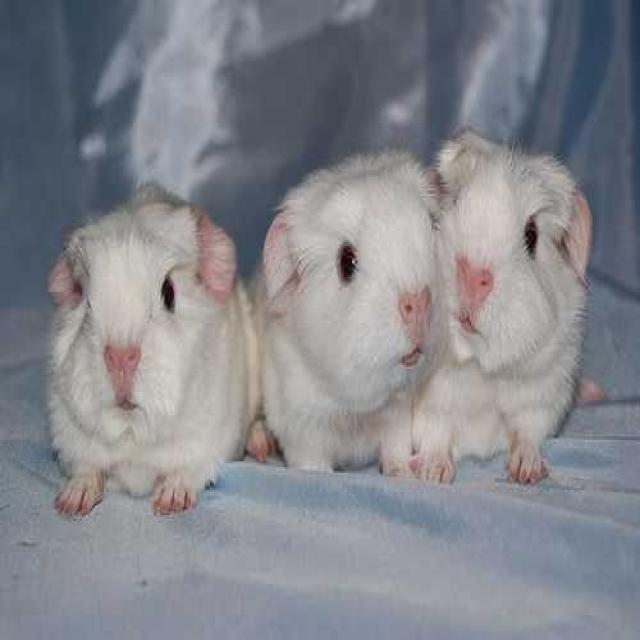guinea pig: (44, 184, 257, 514), (259, 149, 442, 474), (435, 130, 592, 481)
